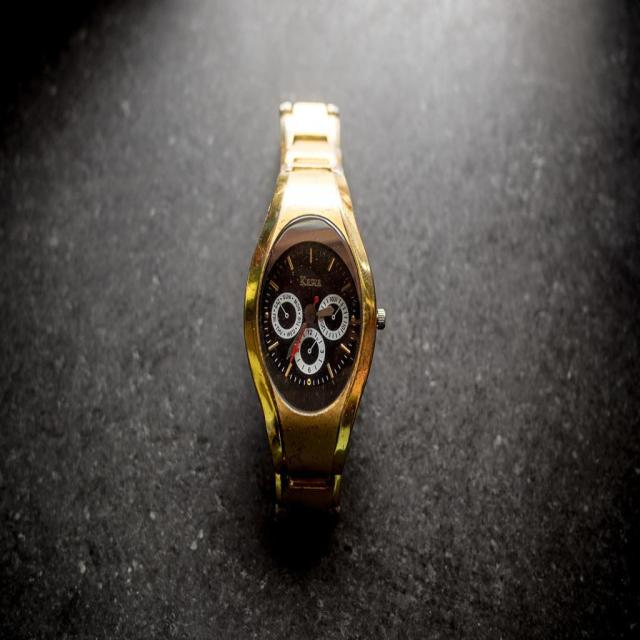Wrist watch: (244, 102, 387, 520)
